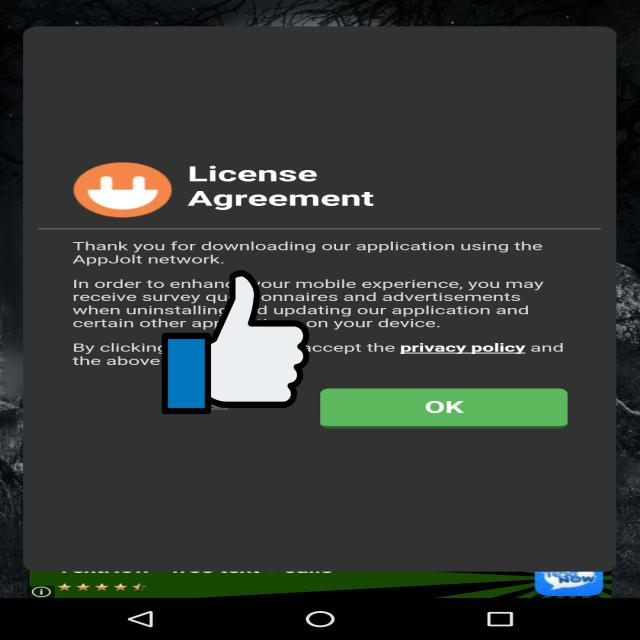privacy zuckering: (162, 267, 309, 417)
